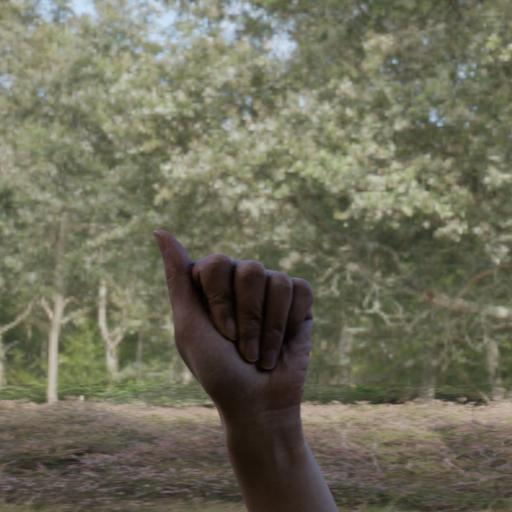A: (124, 222, 352, 448)
